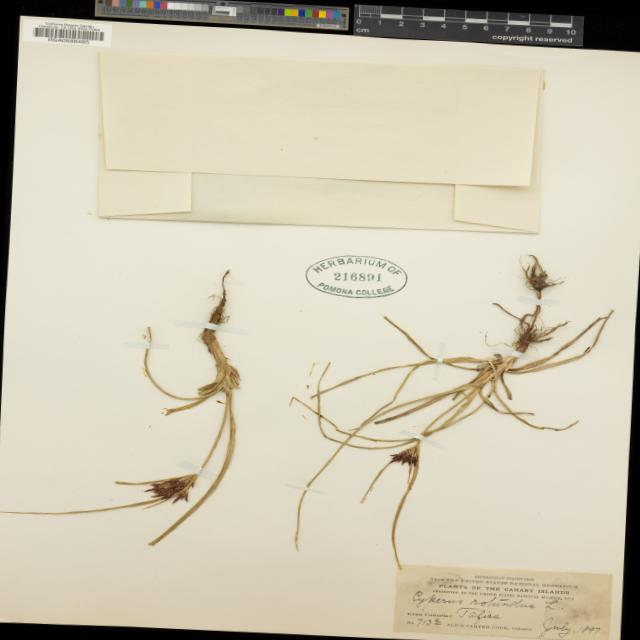cyperus: (488, 250, 580, 360), (126, 462, 220, 518), (381, 436, 429, 476)
